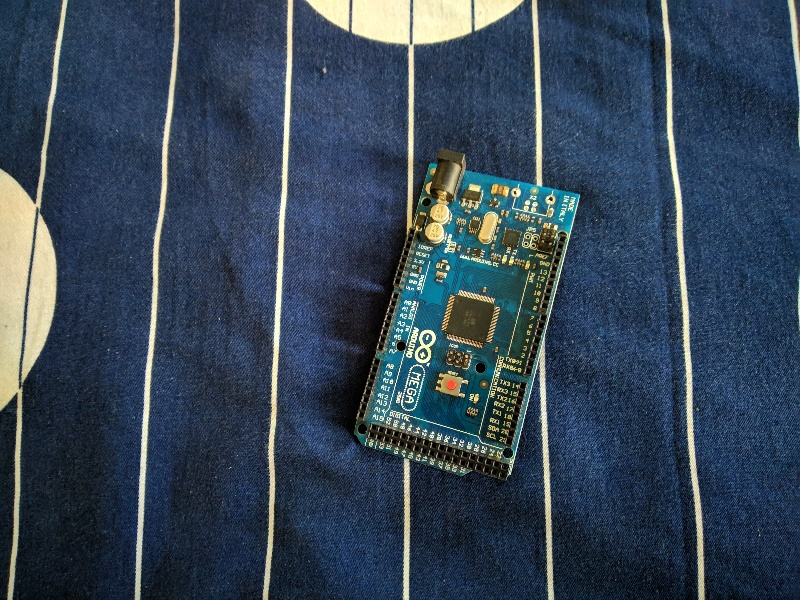Arduino Mega 2560: (345, 142, 589, 486)
